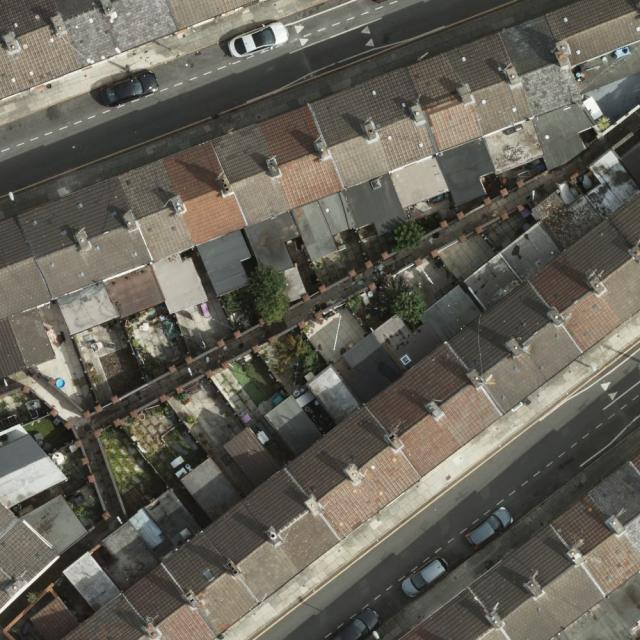roof: (29, 149, 640, 640), (1, 0, 640, 378), (400, 457, 640, 640), (0, 0, 262, 98), (0, 426, 89, 613)
skylight: (178, 526, 193, 542), (202, 568, 216, 584), (369, 178, 383, 192), (399, 353, 412, 366)
